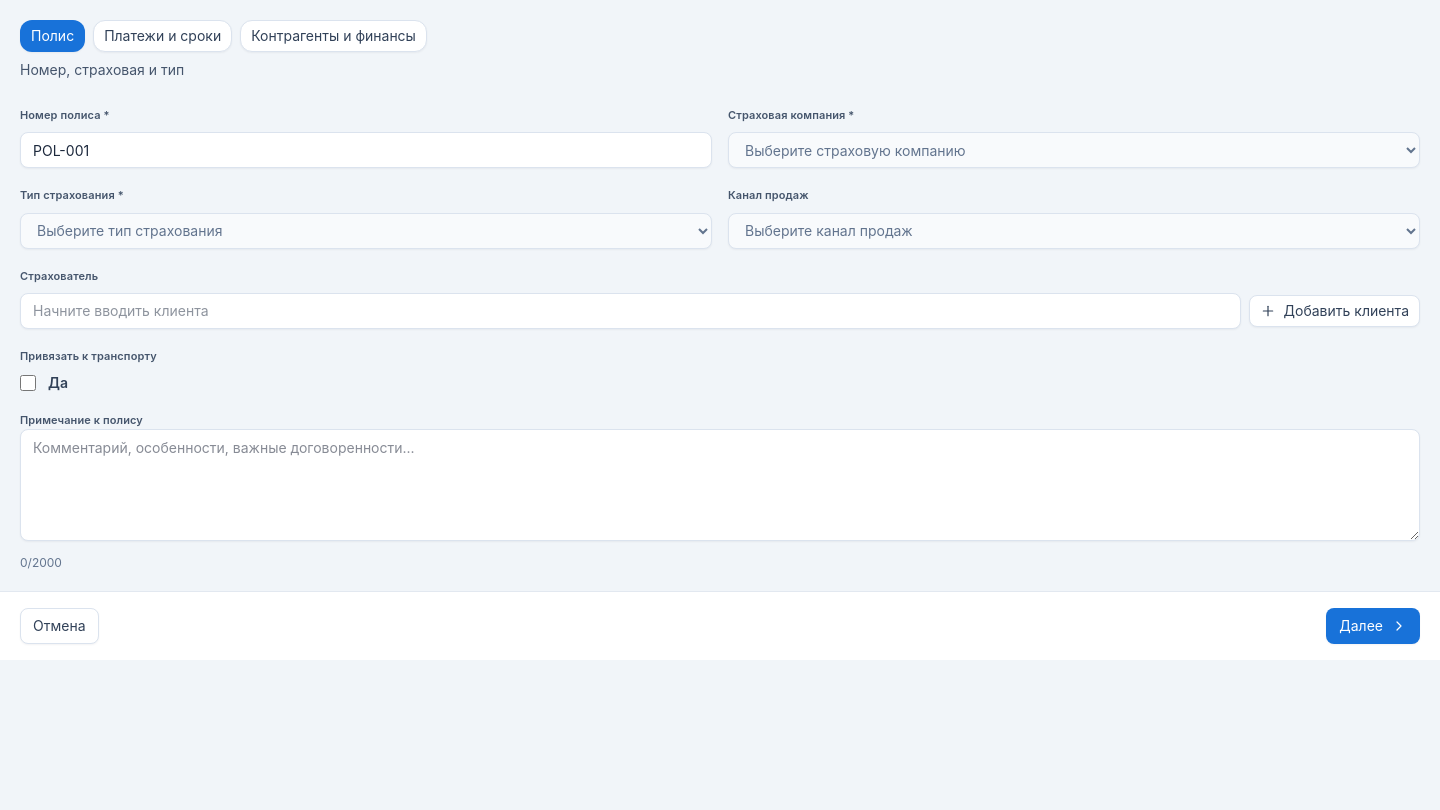
it: AddPolicyForm › preserves historical counterparty and expenses when editing despite a new default
The width and height of the screenshot is (1440, 810).
Click the button "Контрагенты и финансы": (334, 36) [240, 20, 427, 52]
(page scrolled)
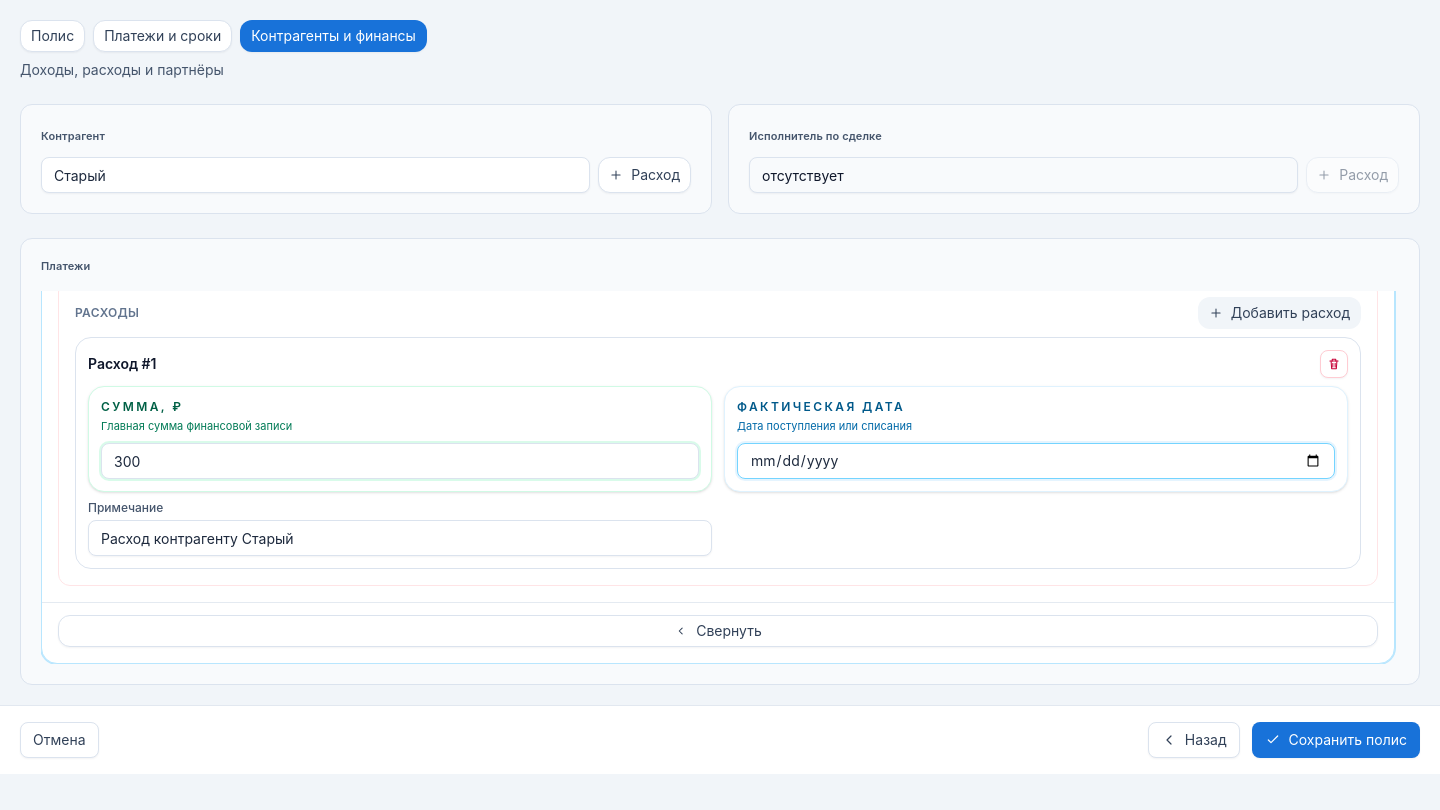
Expected: the 1st field showing "Старый" is shown, [41, 157, 590, 193]
Expected: the field showing "Расход контрагенту Старый" below "Примечание" is shown, [88, 520, 712, 556]
